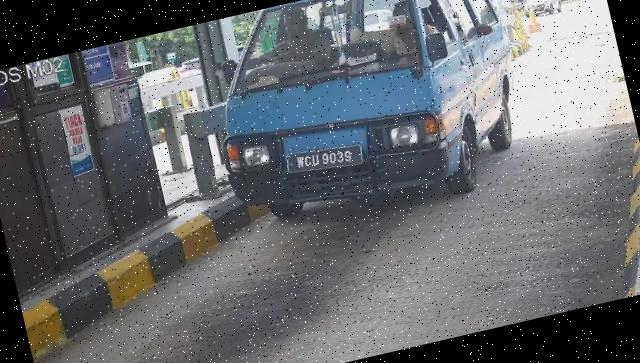License_Plate: (285, 137, 366, 182)
van: (193, 1, 538, 244)
